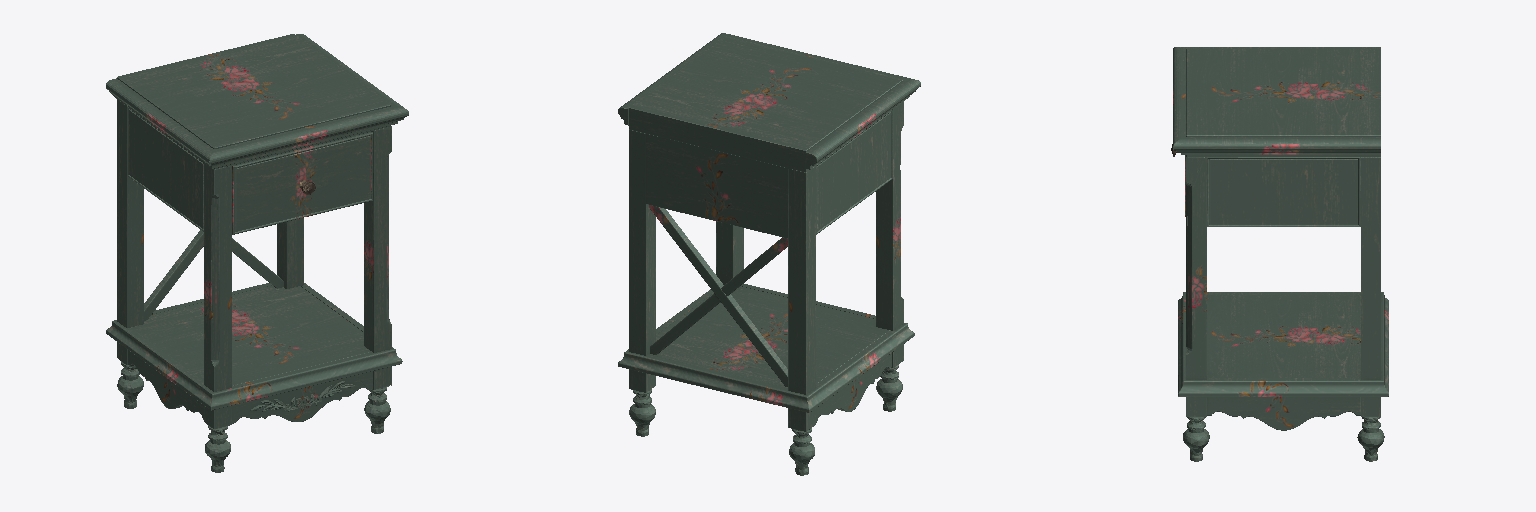
3 views of the same model, side by side, from view 1: azimuth 30°, elevation 25°; view 2: azimuth 150°, elevation 25°; view 3: azimuth 270°, elevation 25° (orthographic).
Visible parts, largest first — view 1: glass_001, solid_003; view 2: glass_001; view 3: glass_001.
Part boxes in pixels (x1,y1,x2,y2): glass_001: (106, 34, 408, 472); solid_003: (250, 381, 354, 411); glass_001: (618, 33, 920, 475); glass_001: (1173, 47, 1388, 461).
Size of the model in its own units: 0.967 by 1.52 by 0.9131.
Materials: 1 (1 with a texture image).